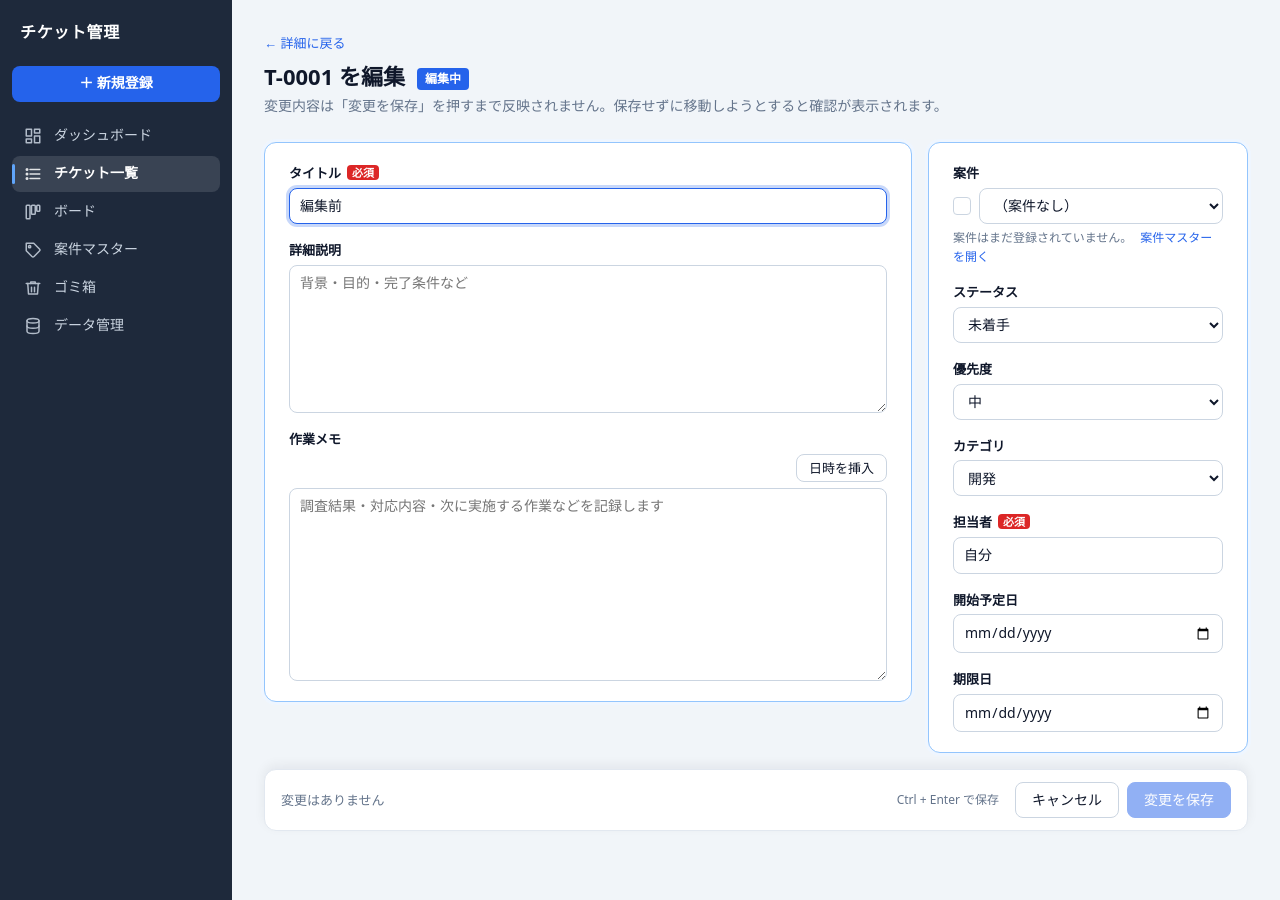
チケット編集画面 › 保存した場合は確認を出さずに詳細画面へ戻り、結果を通知する
In the field labelled "タイトル": [588, 206] box [289,188,887,224], type "（更新）"
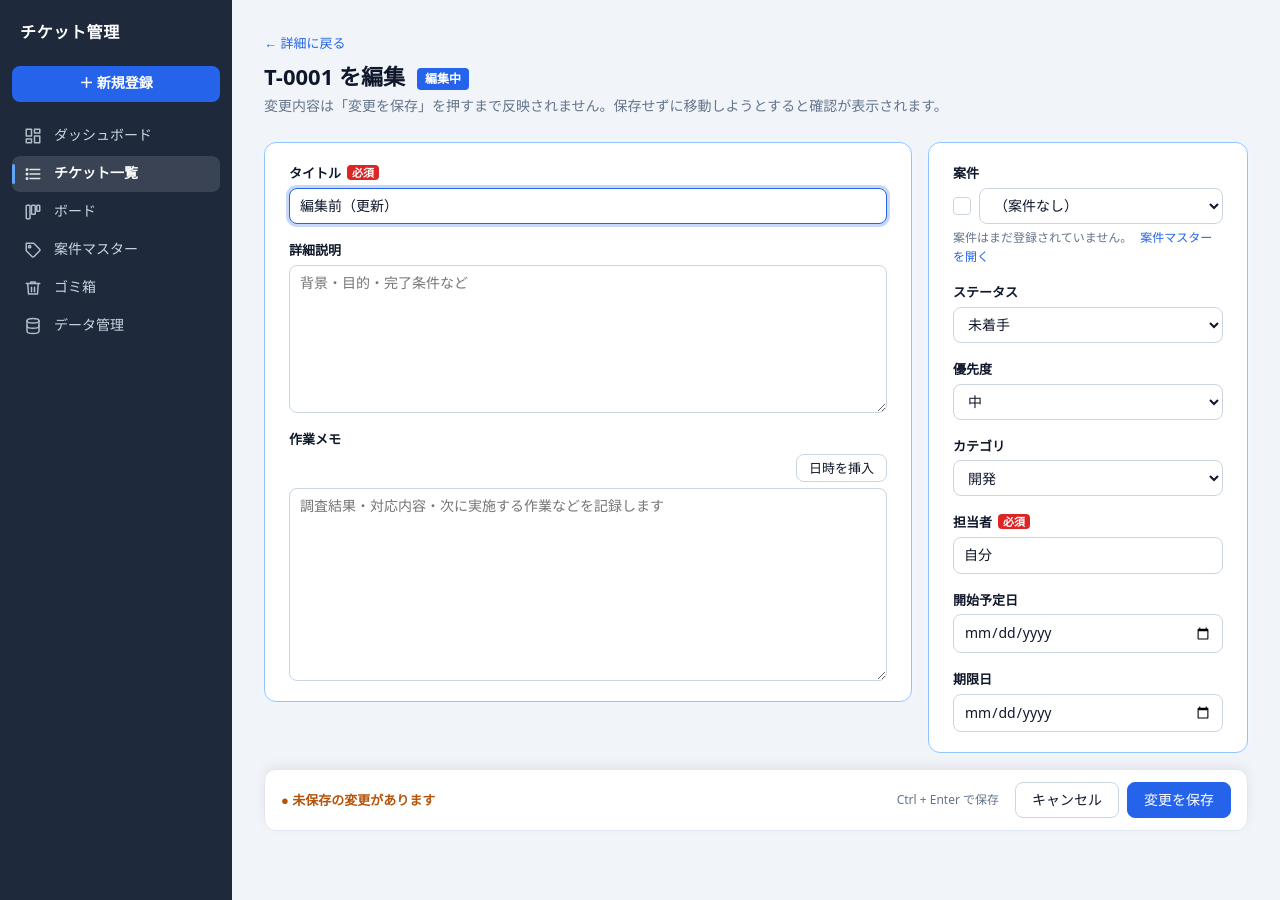
Click the button "変更を保存": [1179, 800] box [1127,782,1231,818]
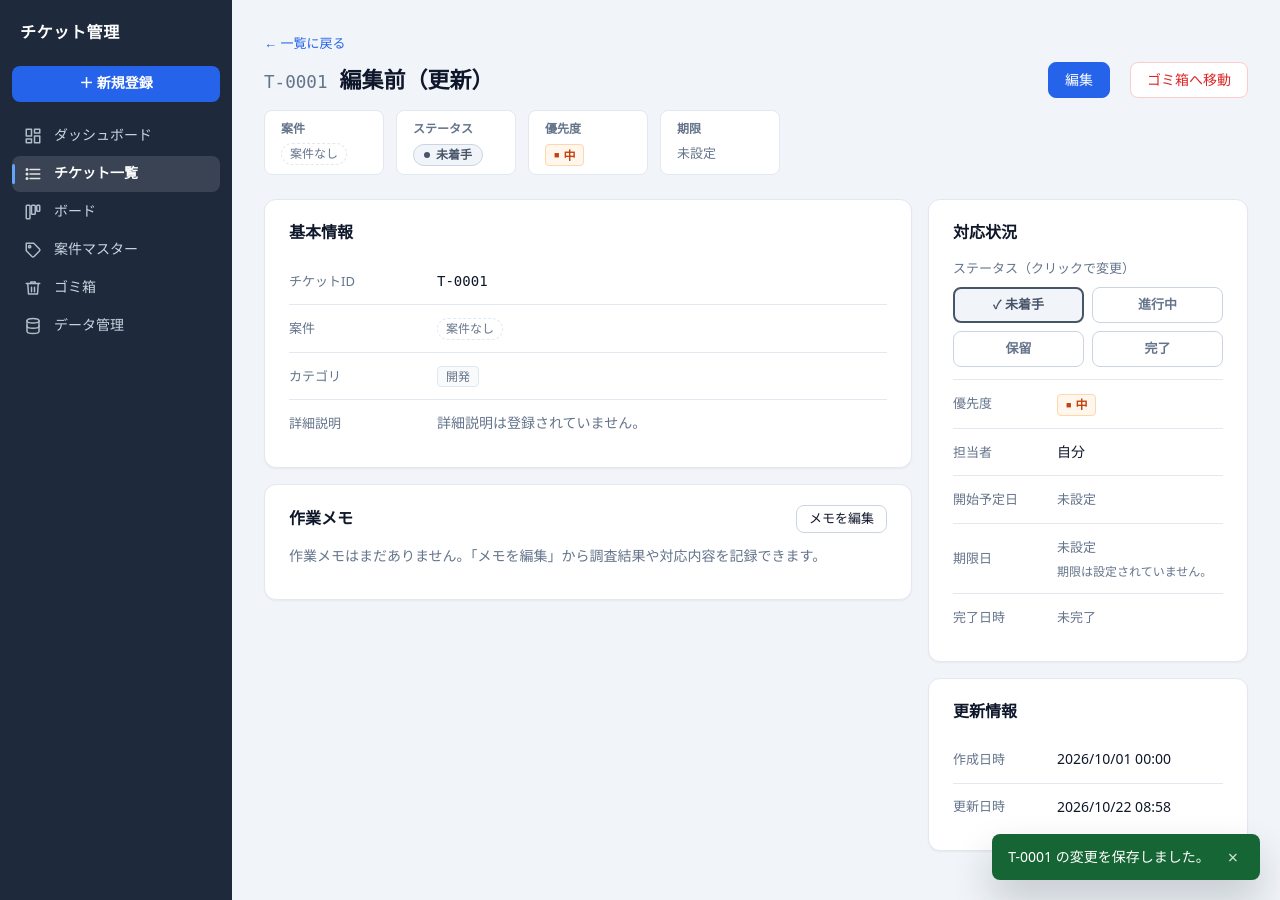
expect the text "T-0001 の変更を保存しました。" is shown: met, box [1008,846,1210,868]
